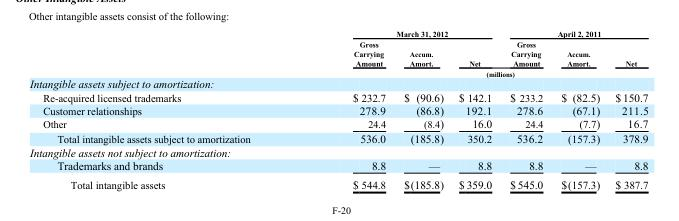table: (28, 29, 647, 190)
table column: (28, 29, 300, 190), (300, 29, 394, 190), (394, 29, 450, 190), (551, 29, 606, 190), (500, 29, 551, 190), (450, 29, 500, 190), (606, 29, 647, 190)
table column header: (28, 29, 647, 77)
table projected row header: (28, 77, 647, 90), (28, 145, 647, 158)
table row: (28, 38, 647, 68), (28, 158, 647, 174), (28, 174, 647, 190), (28, 130, 647, 145), (28, 116, 647, 130), (28, 77, 647, 90), (28, 90, 647, 103), (28, 103, 647, 116), (28, 145, 647, 158), (28, 29, 647, 38), (28, 68, 647, 77)
table spanning cell: (300, 38, 394, 77), (394, 38, 450, 77), (551, 38, 606, 77), (300, 29, 500, 38), (606, 38, 647, 77), (500, 29, 647, 38), (450, 68, 551, 77)
